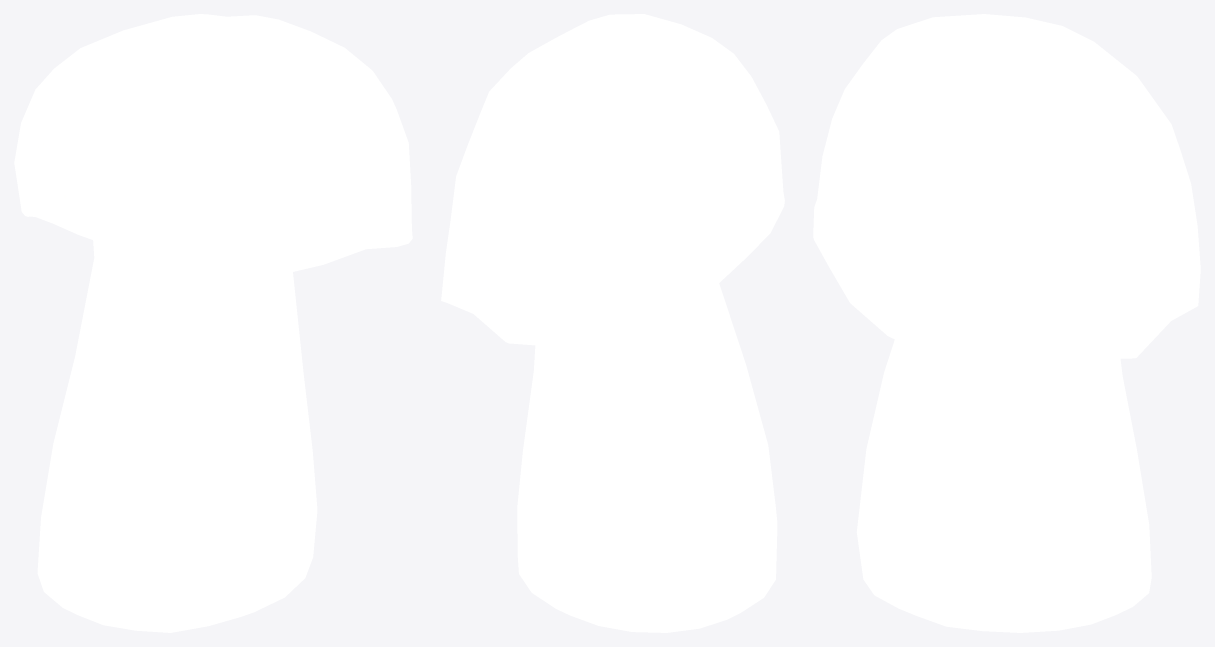
The picture shows the model from 3 angles, left to right: view 1: azimuth 30°, elevation 25°; view 2: azimuth 150°, elevation 25°; view 3: azimuth 270°, elevation 25°; orthographic projection. The views are drawn at different scales.
Parts seen in each view (by area): view 1: SM_Mushrooms_B_04_LOD0; view 2: SM_Mushrooms_B_04_LOD0; view 3: SM_Mushrooms_B_04_LOD0.
Boxes of the visible parts, <box> form: SM_Mushrooms_B_04_LOD0: <box>14,14,412,632</box>; SM_Mushrooms_B_04_LOD0: <box>441,14,784,632</box>; SM_Mushrooms_B_04_LOD0: <box>813,14,1200,632</box>.
Size of the model in its own units: 0.102 by 0.174 by 0.1051.
1 material, 1 textured.
